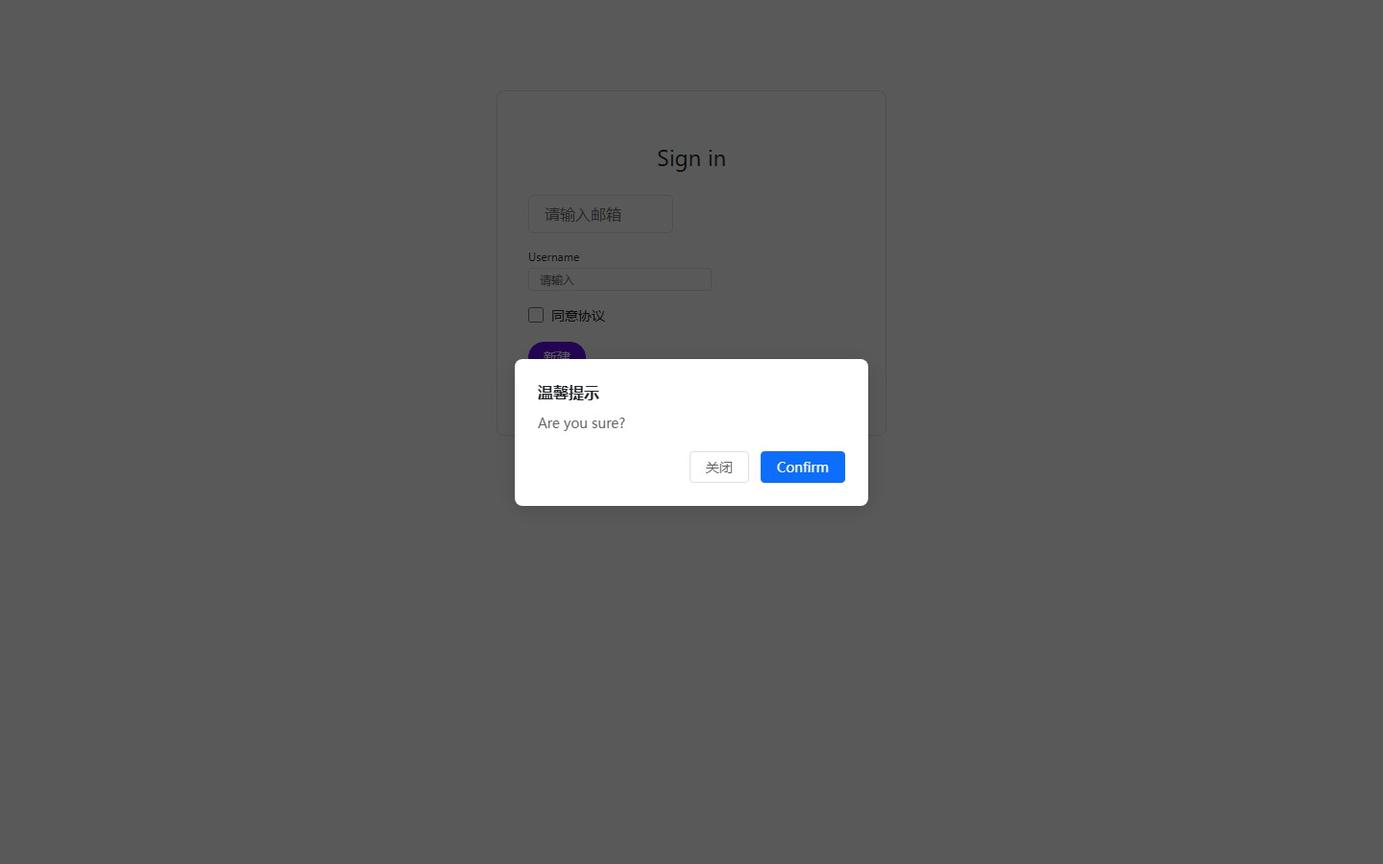button: (761, 451, 845, 482), (689, 451, 749, 482), (528, 342, 586, 373)
checkbox: (528, 307, 544, 323)
icon: (551, 306, 605, 324)
input: (528, 195, 673, 233), (528, 268, 712, 291)
link: (665, 386, 718, 404)
modal: (0, 0, 1383, 864)
radio: (528, 306, 605, 324)
